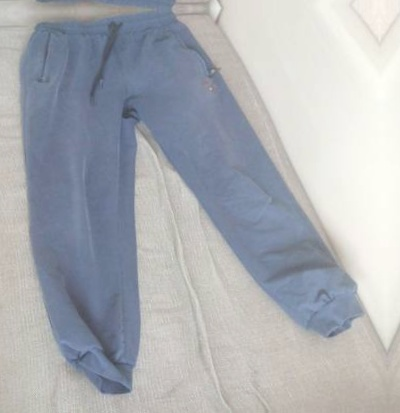Pants: (11, 12, 373, 380), (395, 3, 400, 371), (2, 0, 364, 5)
